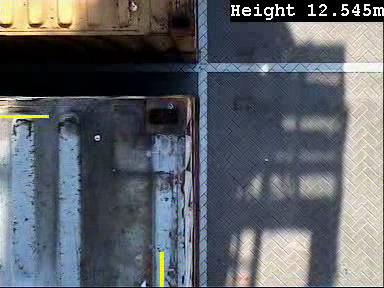groundmarker_2: (191, 78, 235, 154)
